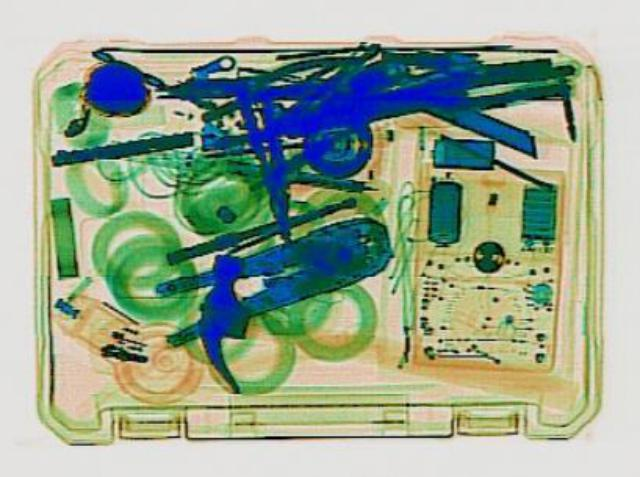Pliers: (124, 201, 410, 350), (191, 60, 355, 149), (234, 79, 302, 240)
